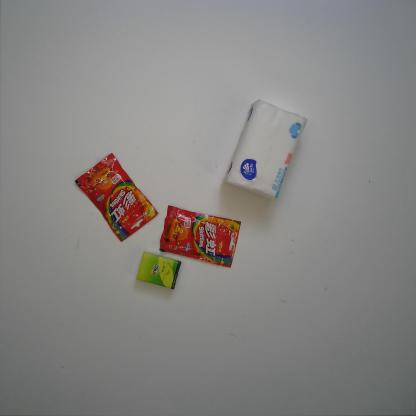Candy: (74, 152, 160, 243), (158, 204, 242, 269)
Tissue: (221, 98, 308, 201), (134, 250, 182, 291)
